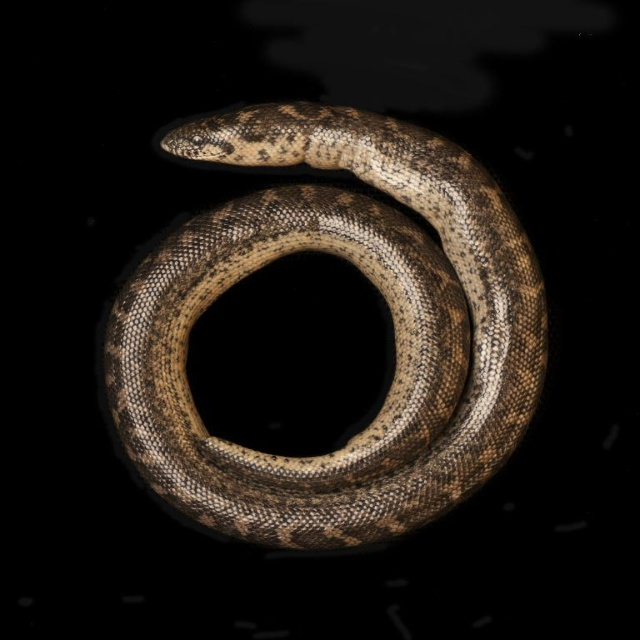Snake: (107, 98, 549, 552)
